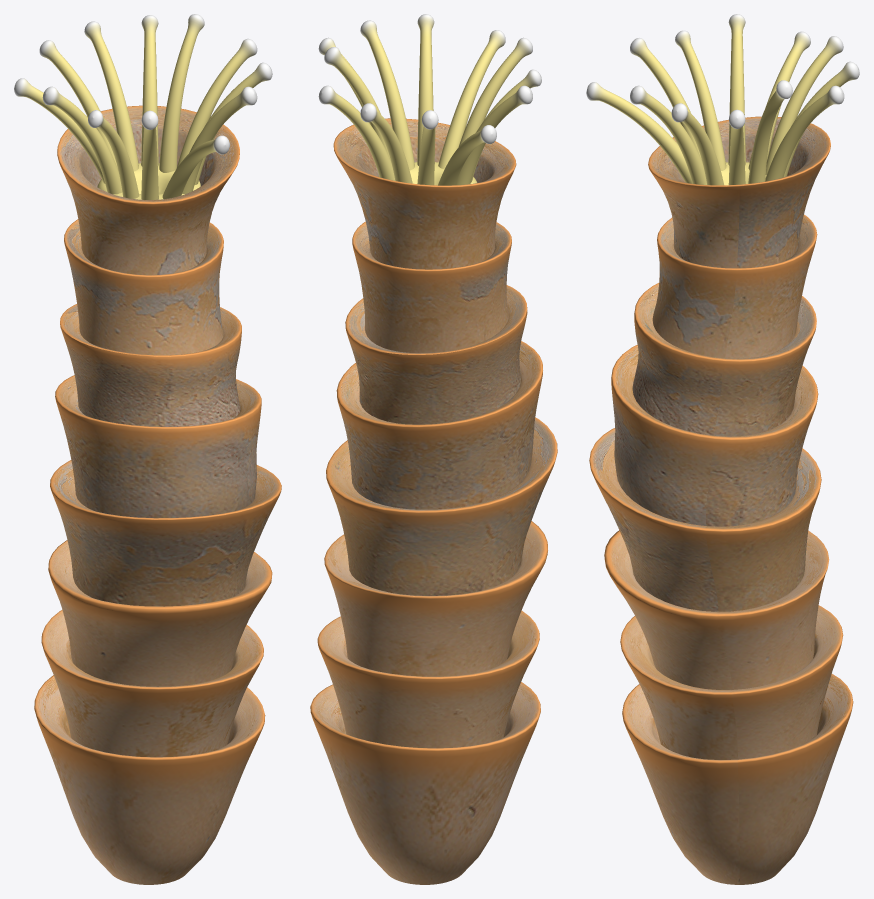
File: cloudina.obj
The picture shows the model from 3 angles, left to right: view 1: azimuth 30°, elevation 25°; view 2: azimuth 150°, elevation 25°; view 3: azimuth 270°, elevation 25°; orthographic projection.
Parts seen in each view (by area): view 1: cloudina1; view 2: cloudina1; view 3: cloudina1.
Boxes of the visible parts, <box> form: cloudina1: <box>14,14,281,884</box>; cloudina1: <box>310,14,557,884</box>; cloudina1: <box>586,14,859,884</box>.
Size of the model in its own units: 2.11 by 7.8 by 2.36.
Materials: 1 (1 with a texture image).
